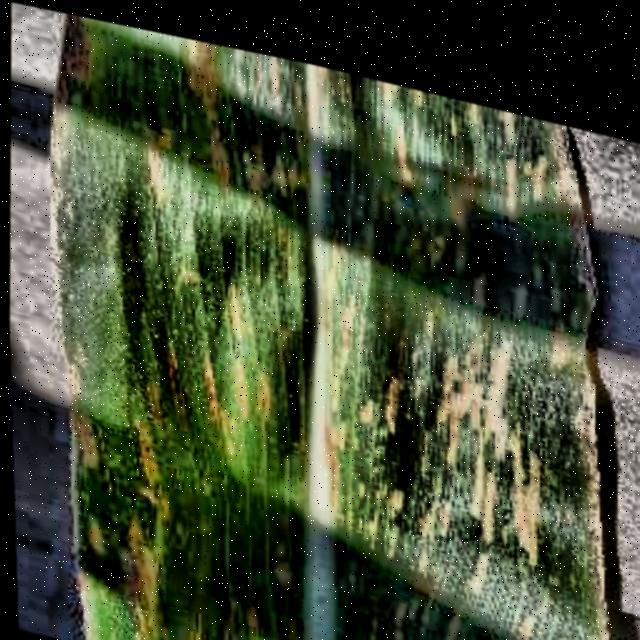gray_spot: (46, 10, 627, 640)
